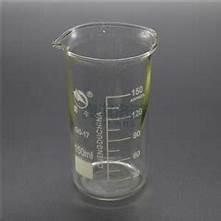Beaker: (47, 20, 161, 205)
